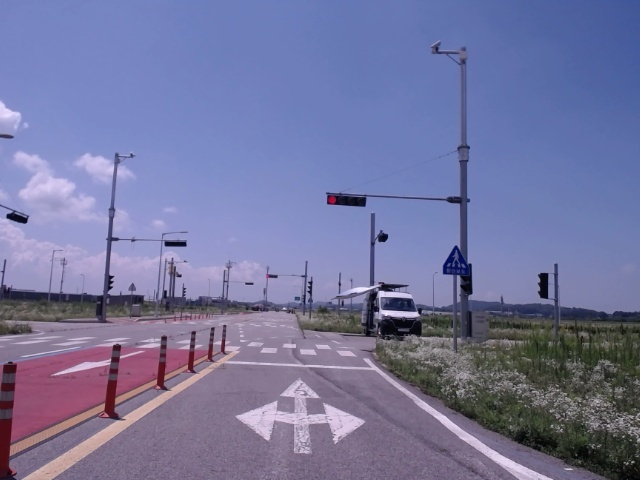red_4: (326, 194, 366, 207)
